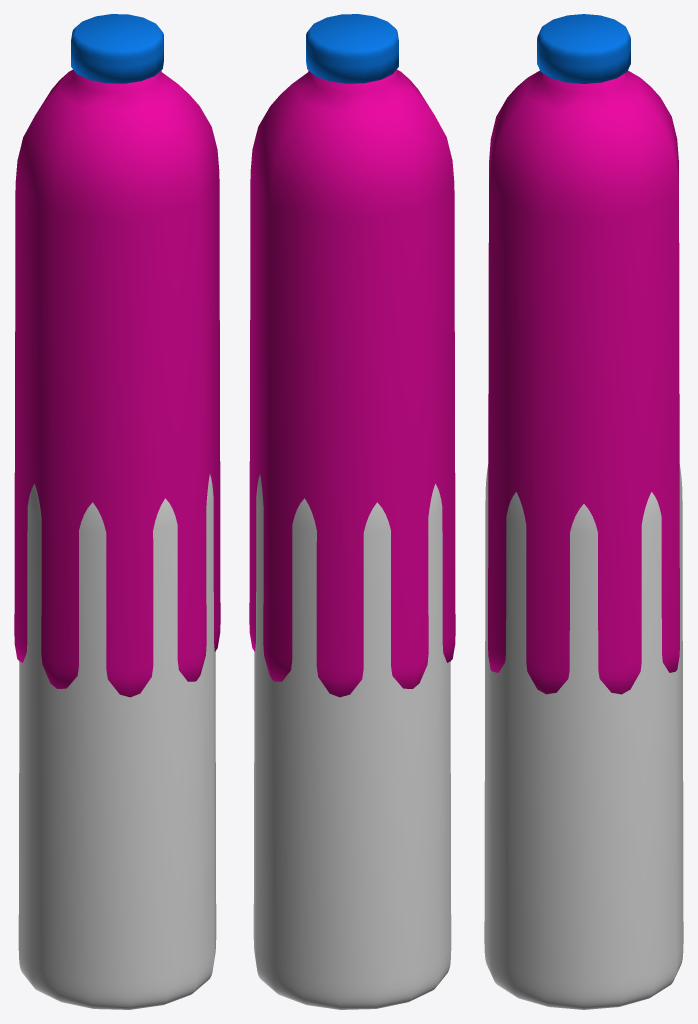
Rendered from SmartwaterWithCap.fbx.
The picture shows the model from 3 angles, left to right: view 1: azimuth 30°, elevation 25°; view 2: azimuth 150°, elevation 25°; view 3: azimuth 270°, elevation 25°; orthographic projection.
Parts seen in each view (by area): view 1: Bottle, Bottle.001, Cap; view 2: Bottle, Bottle.001, Cap; view 3: Bottle, Bottle.001, Cap.
Boxes of the visible parts, x1,y1,x2,y2 form: Bottle: [14, 69, 220, 697]; Bottle.001: [18, 474, 216, 1009]; Cap: [71, 14, 163, 83]; Bottle: [249, 69, 455, 697]; Bottle.001: [253, 474, 451, 1009]; Cap: [306, 14, 398, 83]; Bottle: [488, 70, 679, 694]; Bottle.001: [484, 464, 683, 1009]; Cap: [537, 14, 630, 83].
Size of the model in its own units: 138 by 719 by 138.
